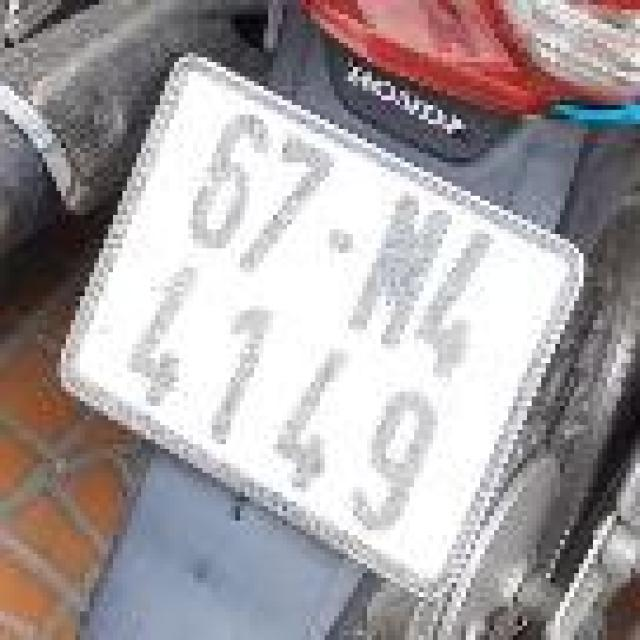1: (194, 288, 294, 459)
4: (404, 209, 523, 393), (113, 252, 234, 421), (265, 332, 371, 501)
6: (176, 92, 286, 259)
7: (227, 127, 351, 288)
9: (341, 373, 464, 553)
M: (337, 178, 464, 362)
